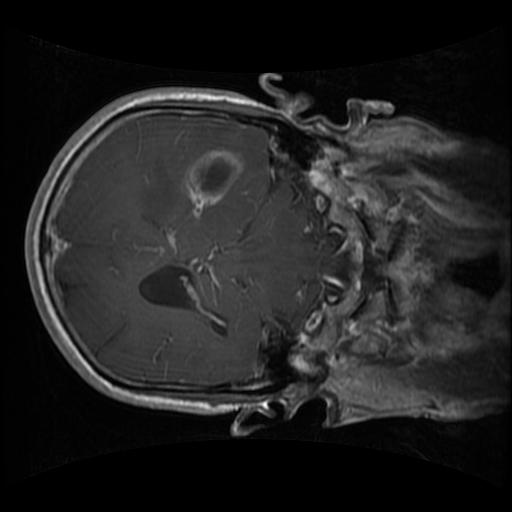glioma: (180, 146, 245, 218)
